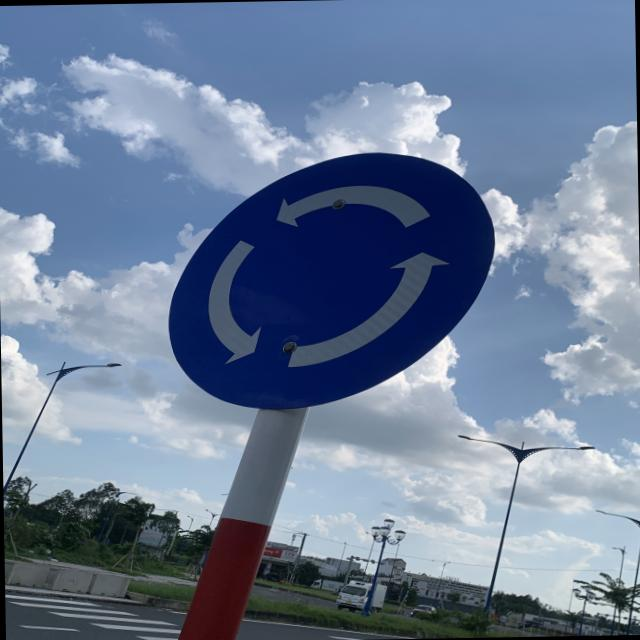Xe_Bus: (164, 148, 498, 413)
